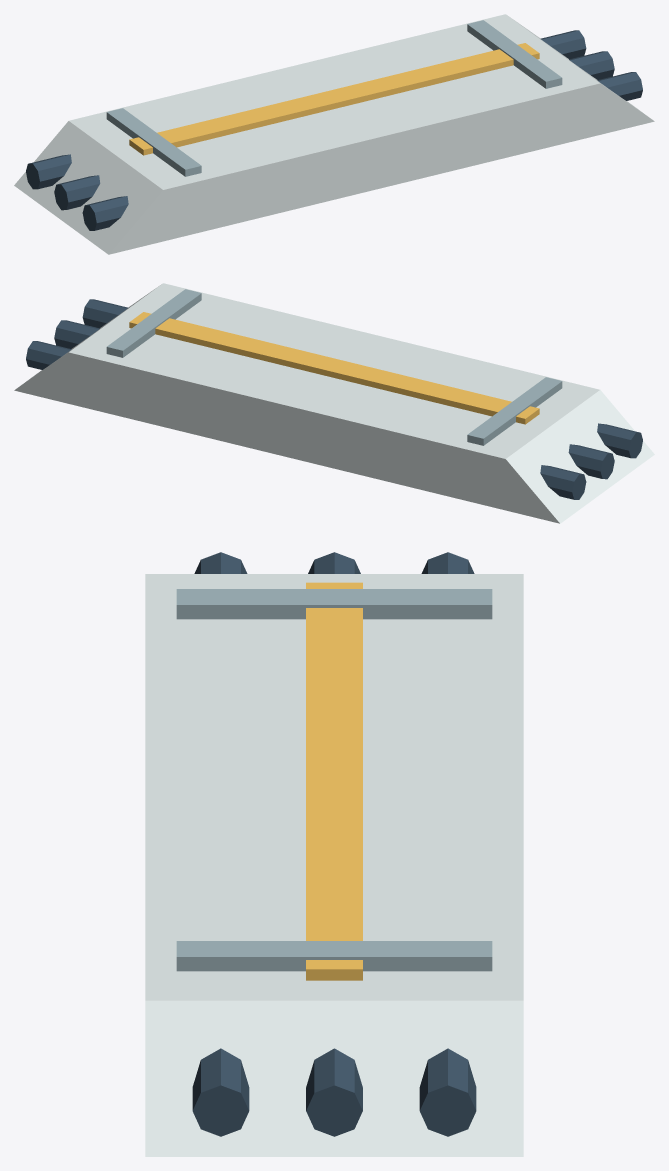
File: orbital-field-station-protected-cable-crossing__161.glb
The picture shows the model from 3 angles, top to bottom: view 1: azimuth 30°, elevation 25°; view 2: azimuth 150°, elevation 25°; view 3: azimuth 270°, elevation 25°; orthographic projection. The views are drawn at different scales.
Parts seen in each view (by area): view 1: shell, warning, dark, metal; view 2: shell, warning, dark, metal; view 3: shell, warning, metal, dark.
Boxes of the visible parts, box(x1,y1,x2,y2) form: shell: box(14, 14, 654, 254); warning: box(129, 43, 539, 155); dark: box(26, 30, 642, 230); metal: box(106, 20, 562, 176); shell: box(14, 283, 654, 523); warning: box(129, 312, 539, 424); dark: box(26, 299, 642, 499); metal: box(106, 289, 562, 445); shell: box(145, 574, 523, 1156); warning: box(306, 582, 362, 980); metal: box(176, 589, 492, 971); dark: box(192, 552, 476, 1136).
Size of the model in its own units: 2 by 0.205 by 0.6.
